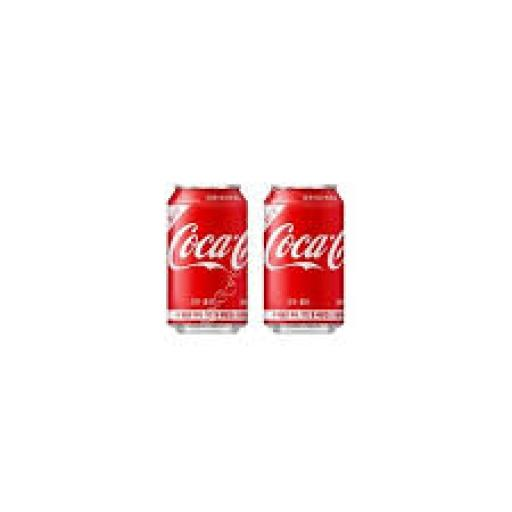Coca: (159, 177, 255, 343), (256, 174, 348, 346)
